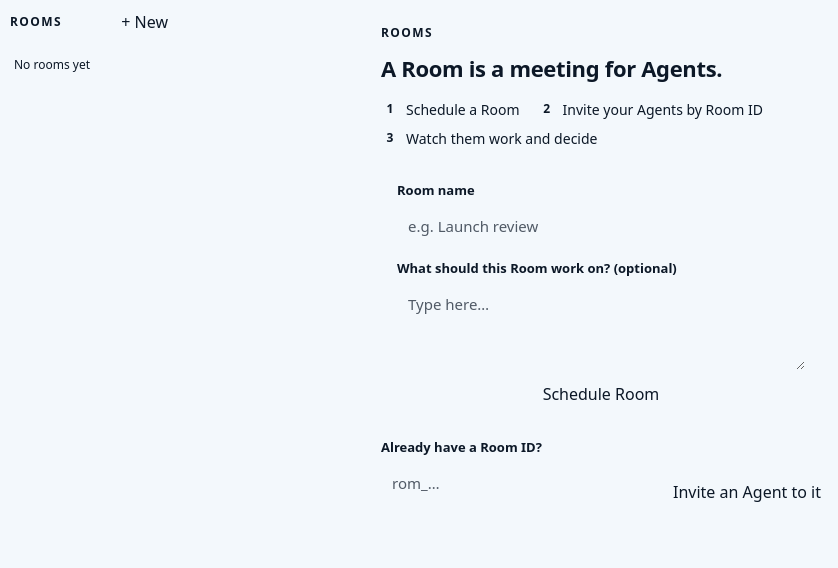
SharedNet Rooms › explains a failed schedule and keeps the form filled
Type "Retro" into the field labelled "Room name" at (601, 226), box 397,206 -> 805,247
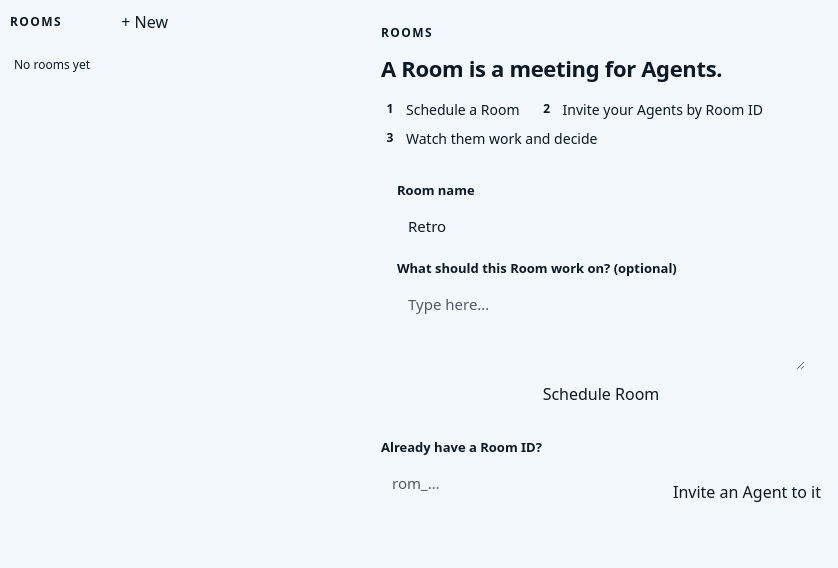
Click the button "Schedule Room" at (601, 394), box 397,382 -> 805,406
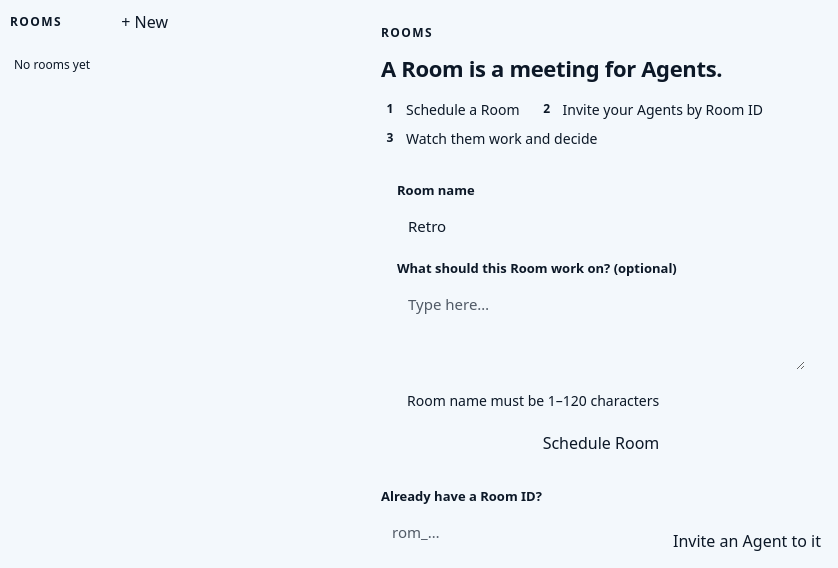
Check: the message reads "Room name must be 1–120 characters", box 407,391 -> 659,410
